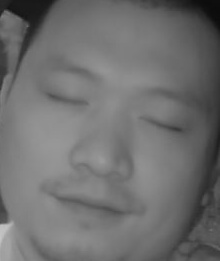blink: (139, 110, 182, 136), (48, 87, 88, 111)
mouth: (52, 183, 133, 230)
